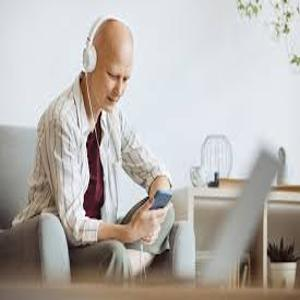Headphones: (81, 17, 135, 75)
